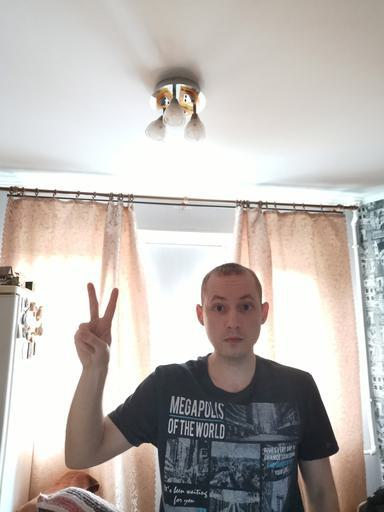peace: (73, 281, 120, 370)
